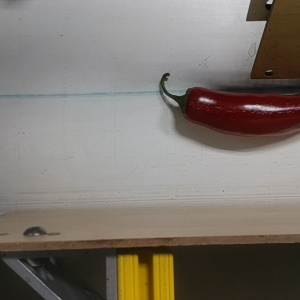Cut Point: (175, 86, 201, 123)
